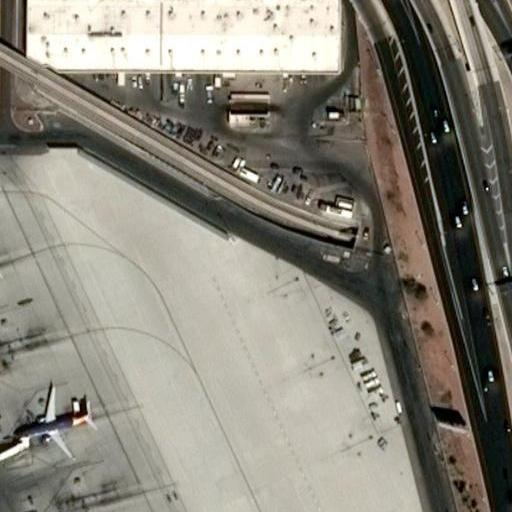Aircraft: (15, 381, 96, 457), (0, 236, 3, 305)
